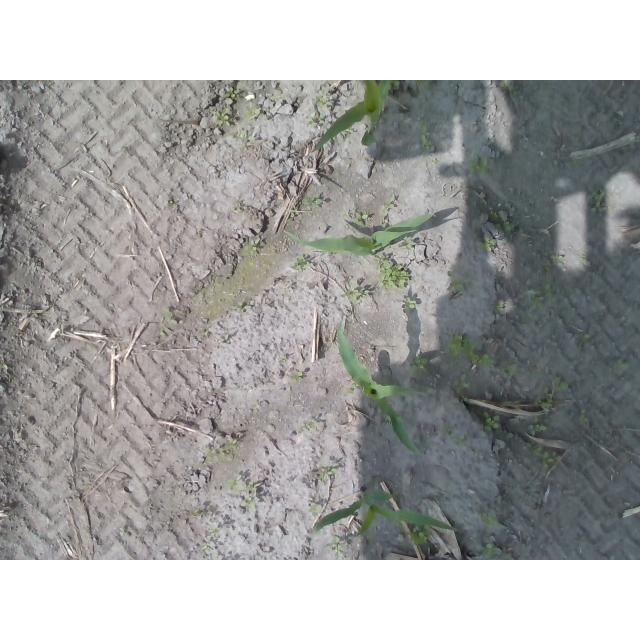Maize: (335, 319, 426, 458), (307, 483, 460, 544), (284, 212, 432, 256), (311, 80, 390, 154)
Weeds: (447, 332, 497, 369), (374, 256, 410, 288), (538, 375, 570, 409), (530, 443, 561, 466), (160, 307, 178, 337), (544, 252, 570, 272), (532, 286, 556, 307), (468, 155, 493, 173), (449, 375, 471, 395), (225, 478, 255, 492), (590, 190, 607, 214), (526, 417, 547, 436), (447, 270, 465, 290), (480, 511, 498, 530), (409, 526, 427, 545), (420, 126, 433, 150), (243, 239, 261, 256), (317, 464, 335, 481), (484, 415, 501, 432), (411, 355, 430, 370), (216, 112, 232, 129), (309, 113, 328, 127), (295, 255, 314, 269), (352, 287, 369, 302), (401, 298, 420, 311), (237, 129, 257, 141), (316, 93, 336, 105), (300, 196, 324, 206), (225, 87, 241, 100), (480, 239, 497, 251), (507, 363, 521, 377), (332, 538, 343, 555), (245, 495, 258, 509), (483, 543, 494, 559), (354, 213, 368, 224), (414, 80, 430, 89), (503, 222, 514, 235), (209, 527, 222, 537), (382, 201, 395, 211), (291, 372, 302, 383), (454, 434, 464, 446), (581, 334, 591, 346), (615, 357, 625, 369), (404, 238, 414, 250), (579, 415, 589, 425), (228, 439, 237, 450)
